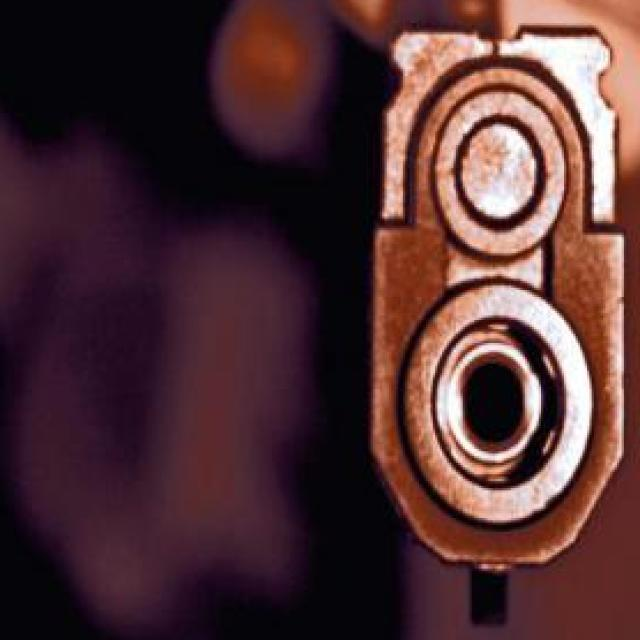pistol: (366, 28, 626, 576)
